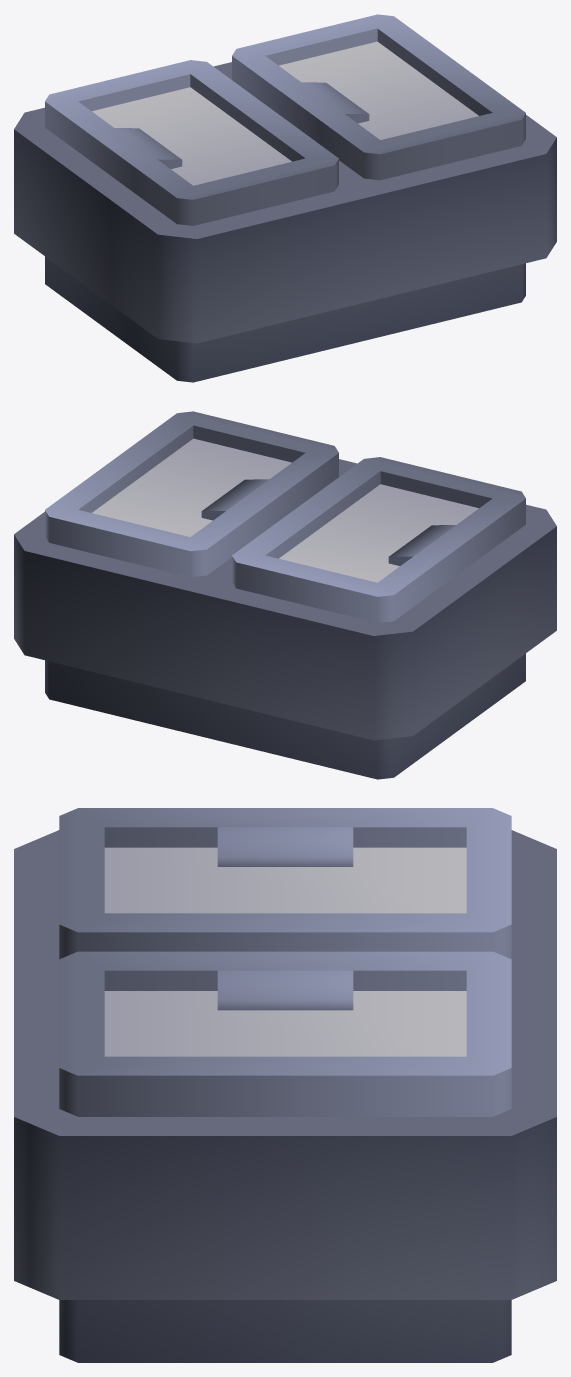
File: freezer.glb
3 views of the same model, one above another, from view 1: azimuth 30°, elevation 25°; view 2: azimuth 150°, elevation 25°; view 3: azimuth 270°, elevation 25° (orthographic). The views are drawn at different scales.
Parts seen in each view (by area): view 1: freezer; view 2: freezer; view 3: freezer.
Part boxes in pixels (left/top/right/bottom): freezer: left=14, top=14, right=556, bottom=382; freezer: left=14, top=411, right=556, bottom=779; freezer: left=14, top=808, right=556, bottom=1362.
Bounding box in the file's own units: 0.8 × 0.35 × 0.6.
